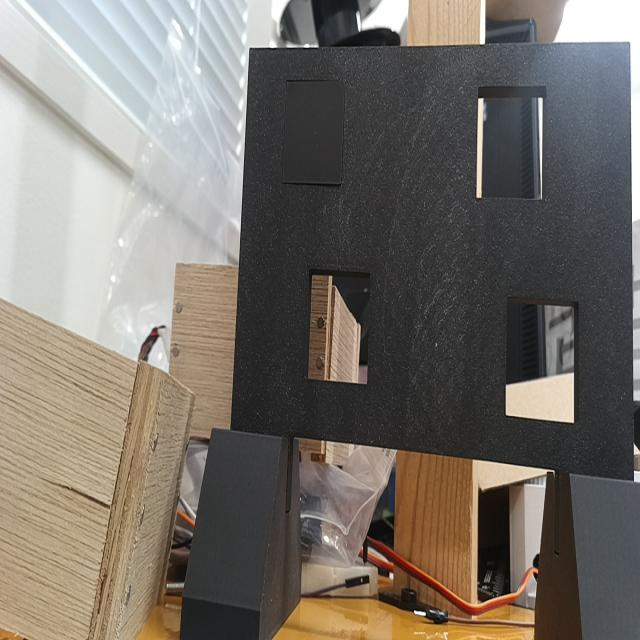Obstacle: (505, 296, 580, 425), (476, 86, 545, 202), (306, 269, 370, 386)
Wall: (232, 45, 632, 477)
